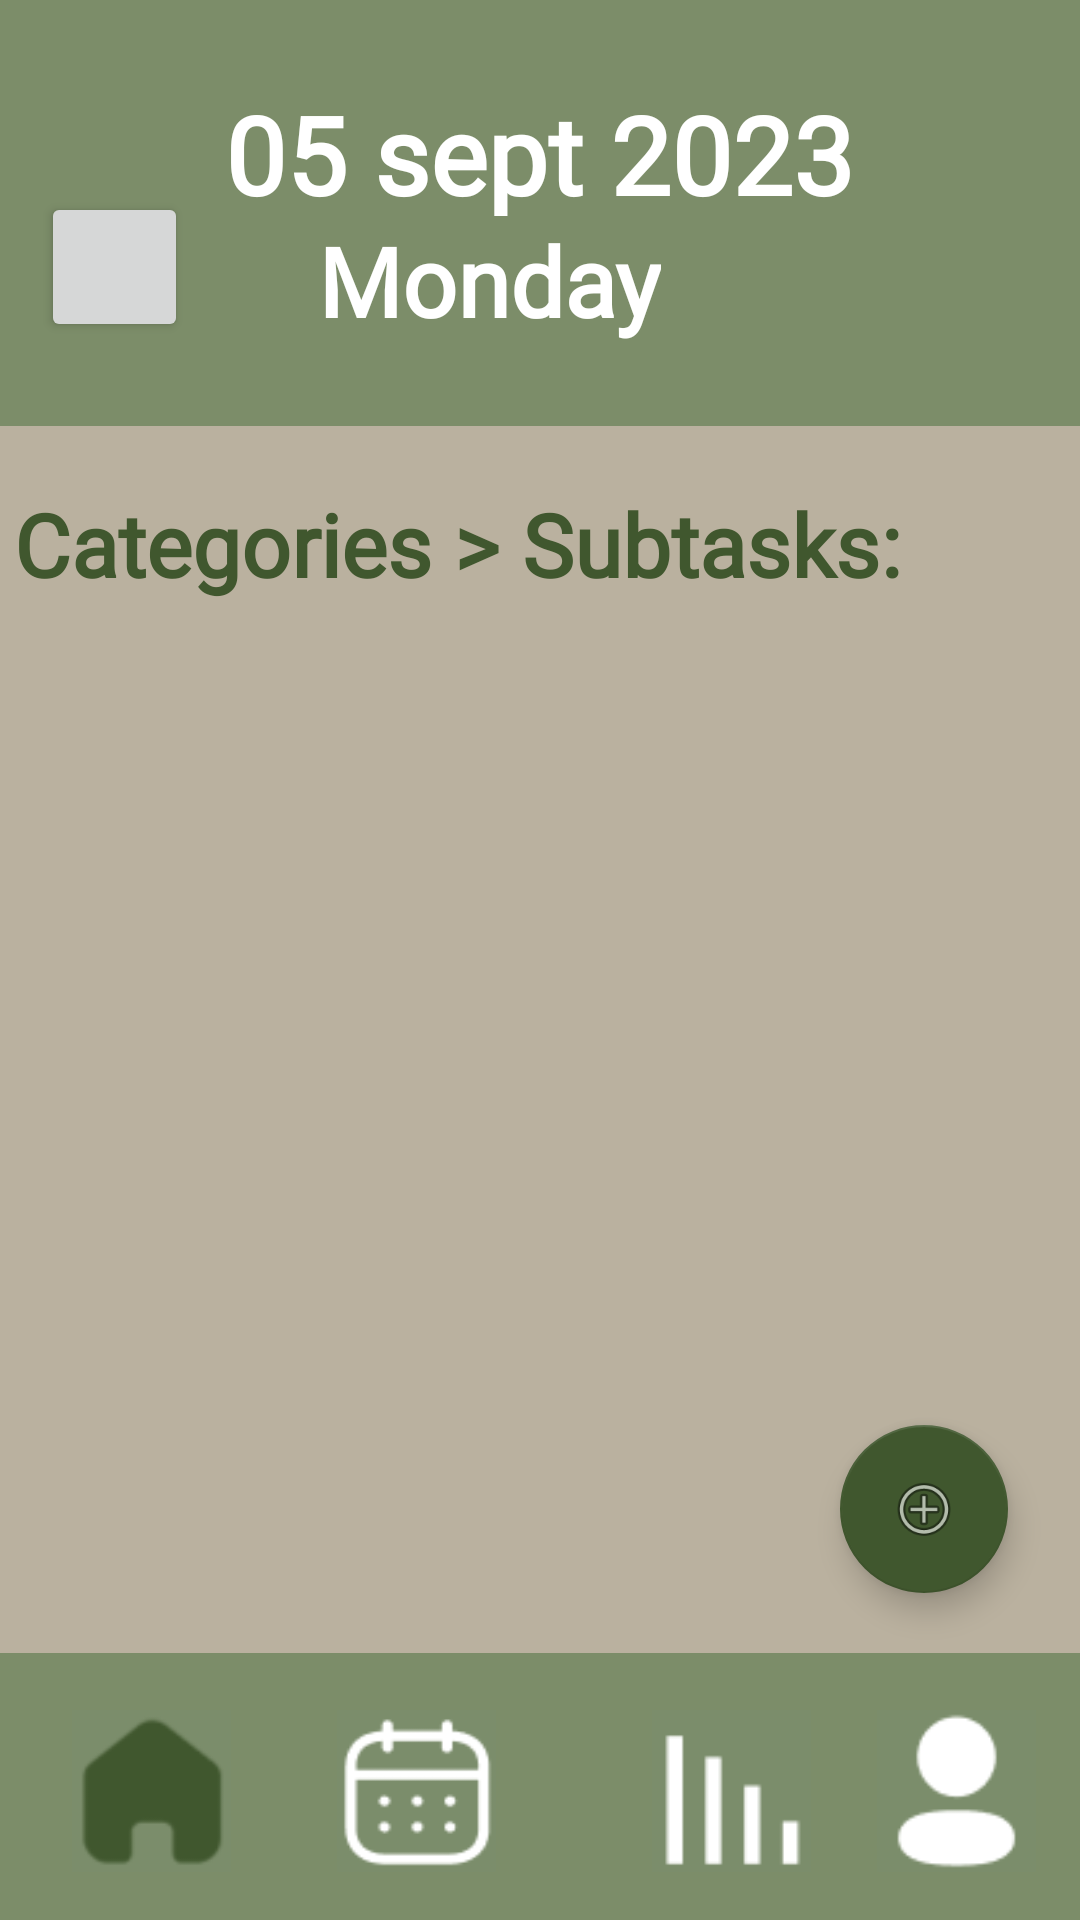

Named icons in this screenshot (1080 × 1920) and their bounding boxes, box(x1, y1, x2, y2):
add: box(840, 1425, 1008, 1593)
